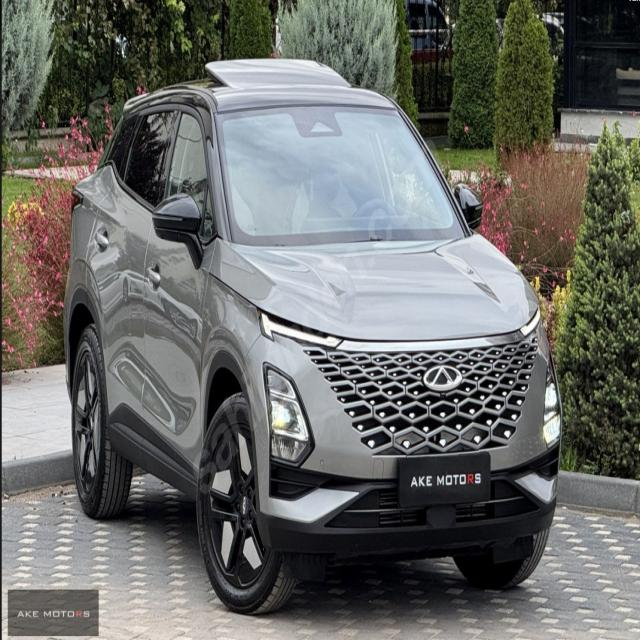cherry: (423, 359, 463, 394)
